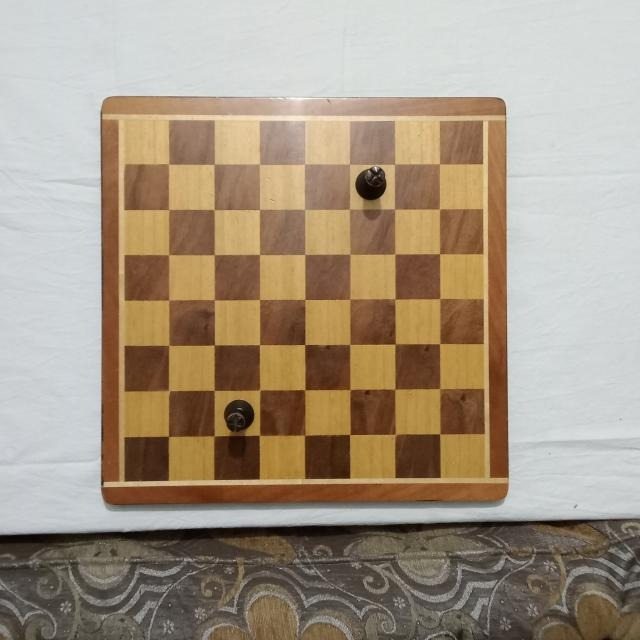black-rook: (354, 166, 389, 202), (222, 398, 256, 434)
